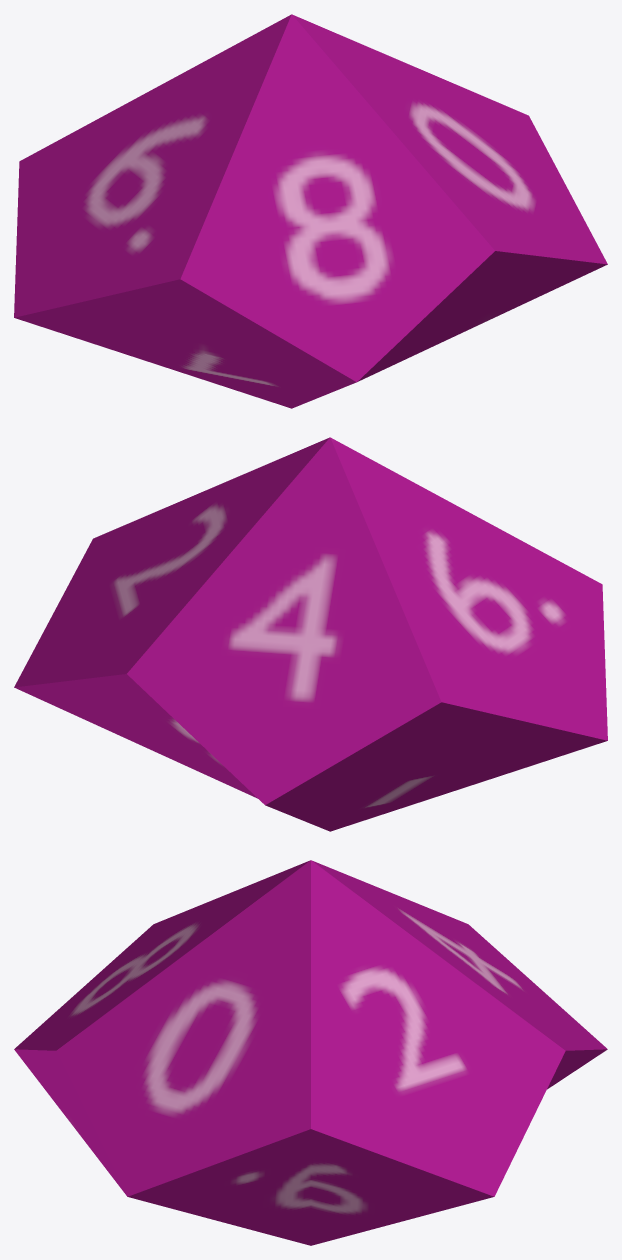
3 views of the same model, one above another, from view 1: azimuth 30°, elevation 25°; view 2: azimuth 150°, elevation 25°; view 3: azimuth 270°, elevation 25° (orthographic). The views are drawn at different scales.
Parts seen in each view (by area): view 1: Icosphere; view 2: Icosphere; view 3: Icosphere.
Boxes of the visible parts, x1=… form: Icosphere: x1=14, y1=14, x2=607, y2=408; Icosphere: x1=14, y1=437, x2=607, y2=831; Icosphere: x1=14, y1=860, x2=607, y2=1245.
Bounding box in the file's own units: 1.94 × 1.42 × 1.98.
1 material, 1 textured.
